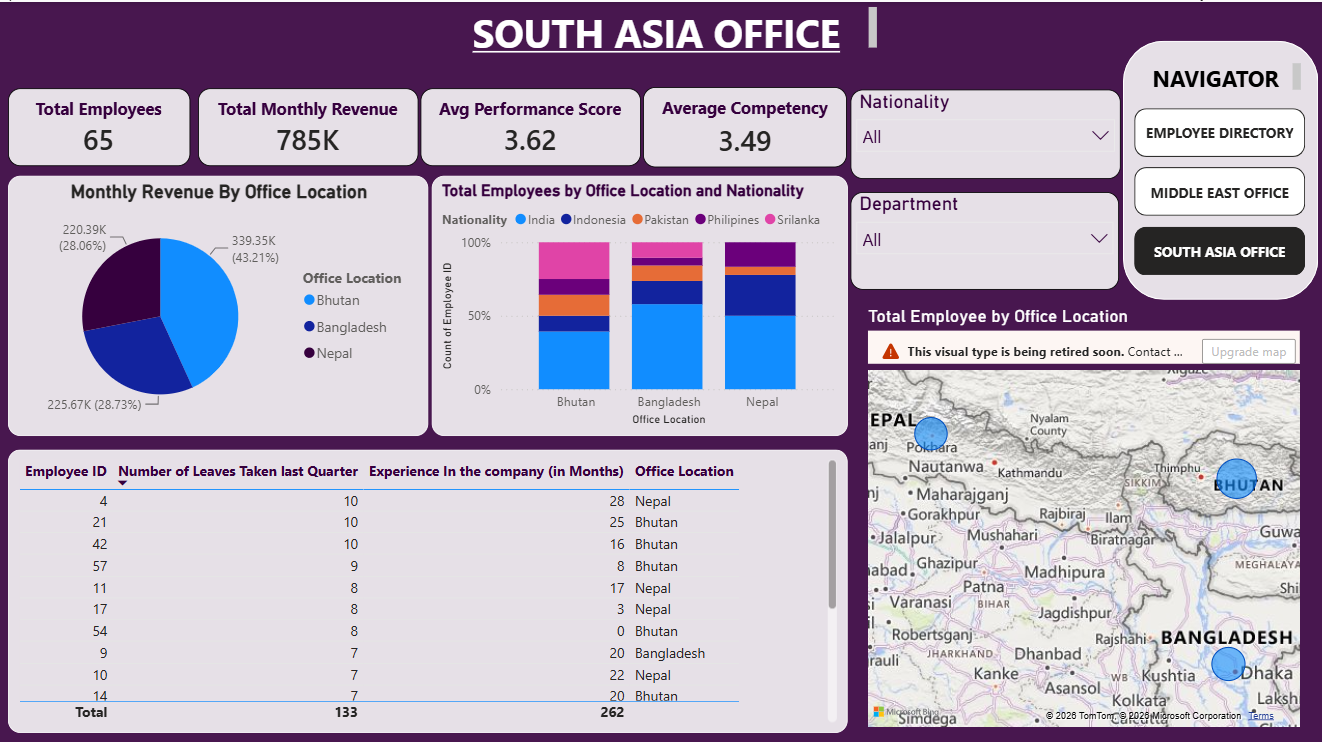

The dashboard page shown, as its layout file describes it:
{"tool":"powerbi","page":{"name":"SOUTH ASIA OFFICE","canvas":[1280,720],"ordinal":2},"visuals":[{"type":"shape","box":[1085.7,37.1,188.6,250],"z":0},{"type":"textbox","box":[1097.1,54.3,165.7,37.1],"z":1000},{"type":"pageNavigator","box":[1097.1,102.9,165.7,161.4],"z":2000},{"type":"textbox","box":[426.2,0,427.5,53.8],"z":3000},{"type":"cardVisual","title":"TOTAL EMPLOYEES","fields":{"Data":["CountNonNull(South Asia Office Data.Employee ID)"]},"box":[10,83.6,175.7,75],"z":4000},{"type":"cardVisual","title":"TOTAL EMPLOYEES","fields":{"Data":["Sum(South Asia Office Data.Monthly Revenue Generated)"]},"box":[192.5,83.6,212.9,75],"z":5000},{"type":"tableEx","fields":{"Values":["South Asia Office Data.Employee ID","Sum(South Asia Office Data.Number of Leaves Taken last QuarterMax allowed in a quarter = 6)","Sum(South Asia Office Data.Number of Months of Experience in the Company)","South Asia Office Data.Office Location"]},"box":[10,431.7,810,273.3],"z":6000},{"type":"pieChart","title":"Monthly Revenue By Office Location","fields":{"Category":["South Asia Office Data.Office Location","South Asia Office Data.Department"],"Y":["Sum(South Asia Office Data.Monthly Revenue Generated)"]},"box":[10,167.1,405.7,251.4],"z":7000},{"type":"hundredPercentStackedColumnChart","title":"Total Employees by Office Location and Nationality","fields":{"Category":["South Asia Office Data.Office Location"],"Series":["South Asia Office Data.Nationality"],"Y":["CountNonNull(South Asia Office Data.Employee ID)"]},"box":[418.8,167.5,401.2,251.2],"z":8000},{"type":"slicer","title":"TOTAL EMPLOYEES","fields":{"Values":["South Asia Office Data.Nationality"]},"box":[823.4,83.9,260.7,86.5],"z":9000},{"type":"slicer","title":"TOTAL EMPLOYEES","fields":{"Values":["South Asia Office Data.Department"]},"box":[823.4,183.3,259.4,94.2],"z":10000},{"type":"cardVisual","title":"TOTAL EMPLOYEES","fields":{"Data":["Avg(South Asia Office Data.Performance Score)"]},"box":[407.8,83.3,212.8,75.6],"z":11000},{"type":"cardVisual","title":"TOTAL EMPLOYEES","fields":{"Data":["Avg(South Asia Office Data.Competency (Max=5))"]},"box":[622.9,82.3,197.1,77.4],"z":12000},{"type":"map","title":"Total Employee by Office Location","fields":{"Category":["South Asia Office Data.Office Location","South Asia Office Data.Department"],"Size":["CountNonNull(South Asia Office Data.Employee ID)"]},"box":[835,293.3,426.7,411.7],"z":13000}]}

Visuals, with their boxes in screenshot pixels (x1, y1, x2, y2), scaled from the page's 1280x720 canvas onto the 1322x742 screenshot:
shape: bbox(1121, 38, 1316, 296)
textbox: bbox(1133, 56, 1304, 94)
pageNavigator: bbox(1133, 106, 1304, 272)
textbox: bbox(440, 0, 882, 55)
"TOTAL EMPLOYEES" cardVisual: bbox(10, 86, 192, 163)
"TOTAL EMPLOYEES" cardVisual: bbox(199, 86, 419, 163)
tableEx - South Asia Office Data.Employee ID x Sum(South Asia Office Data.Number of Leaves Taken last QuarterMax allowed in a quarter = 6): bbox(10, 445, 847, 727)
"Monthly Revenue By Office Location" pieChart: bbox(10, 172, 429, 431)
"Total Employees by Office Location and Nationality" hundredPercentStackedColumnChart: bbox(433, 173, 847, 431)
"TOTAL EMPLOYEES" slicer: bbox(850, 86, 1120, 176)
"TOTAL EMPLOYEES" slicer: bbox(850, 189, 1118, 286)
"TOTAL EMPLOYEES" cardVisual: bbox(421, 86, 641, 164)
"TOTAL EMPLOYEES" cardVisual: bbox(643, 85, 847, 165)
"Total Employee by Office Location" map: bbox(862, 302, 1303, 727)
